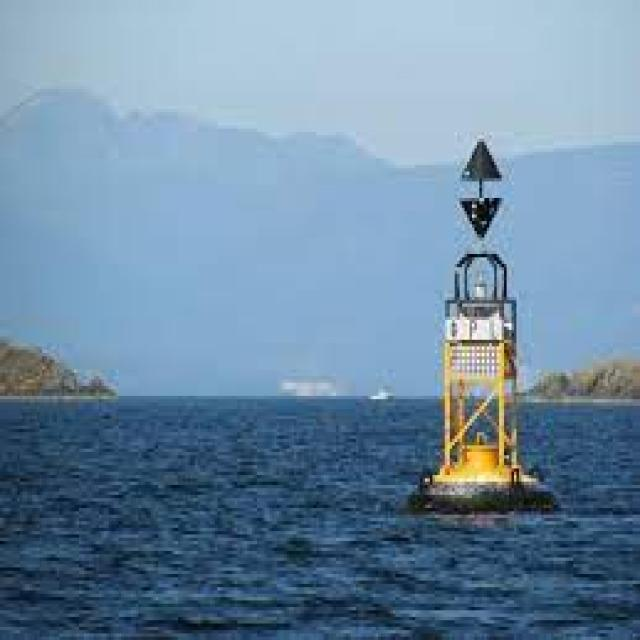buoy: (408, 113, 566, 531)
